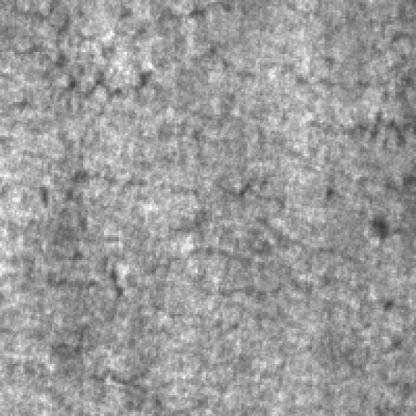crazing: (35, 165, 328, 298), (0, 0, 243, 92)
